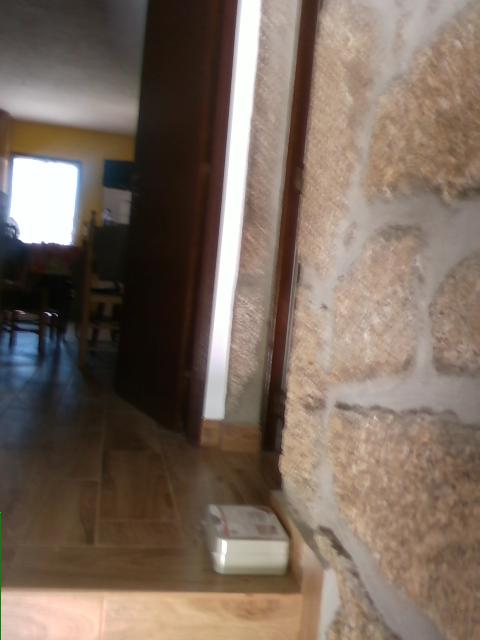door: (117, 1, 222, 435)
